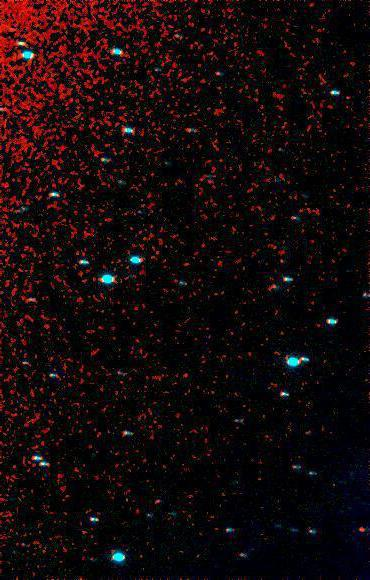star: (348, 515, 370, 545)
